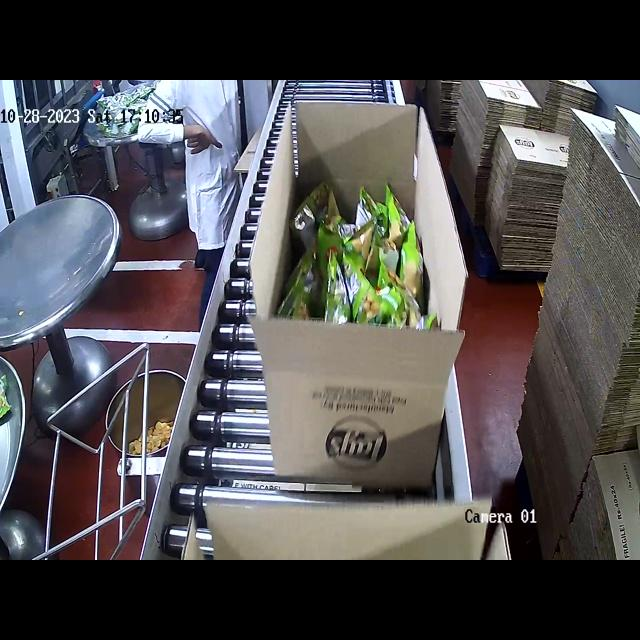yogurt: (303, 190, 442, 344)
